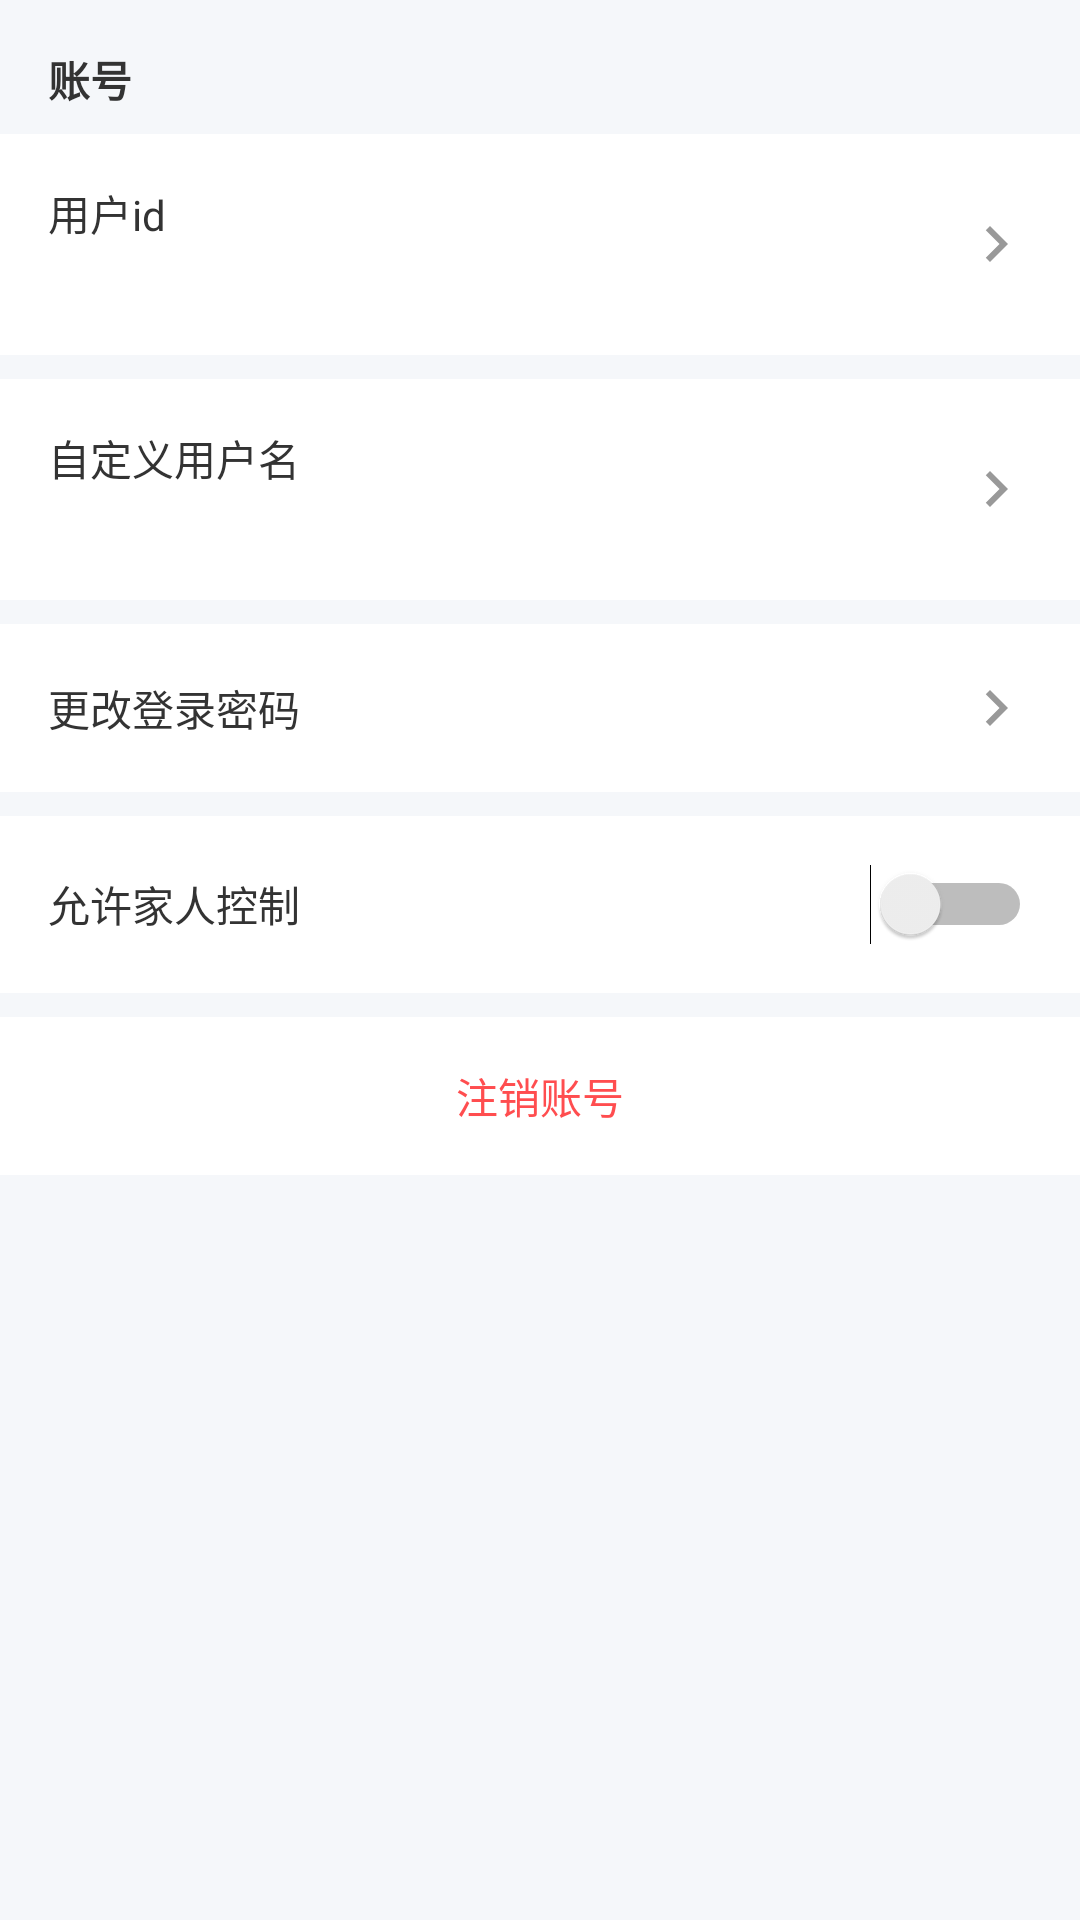

Screen size 1080px×1920px. Icon name, then its box in pixels as [left=x1, top=y1, right=x2, bottom=y2]:
chevron right: [left=986, top=226, right=1008, bottom=262], [left=986, top=471, right=1008, bottom=507], [left=986, top=690, right=1008, bottom=726]
